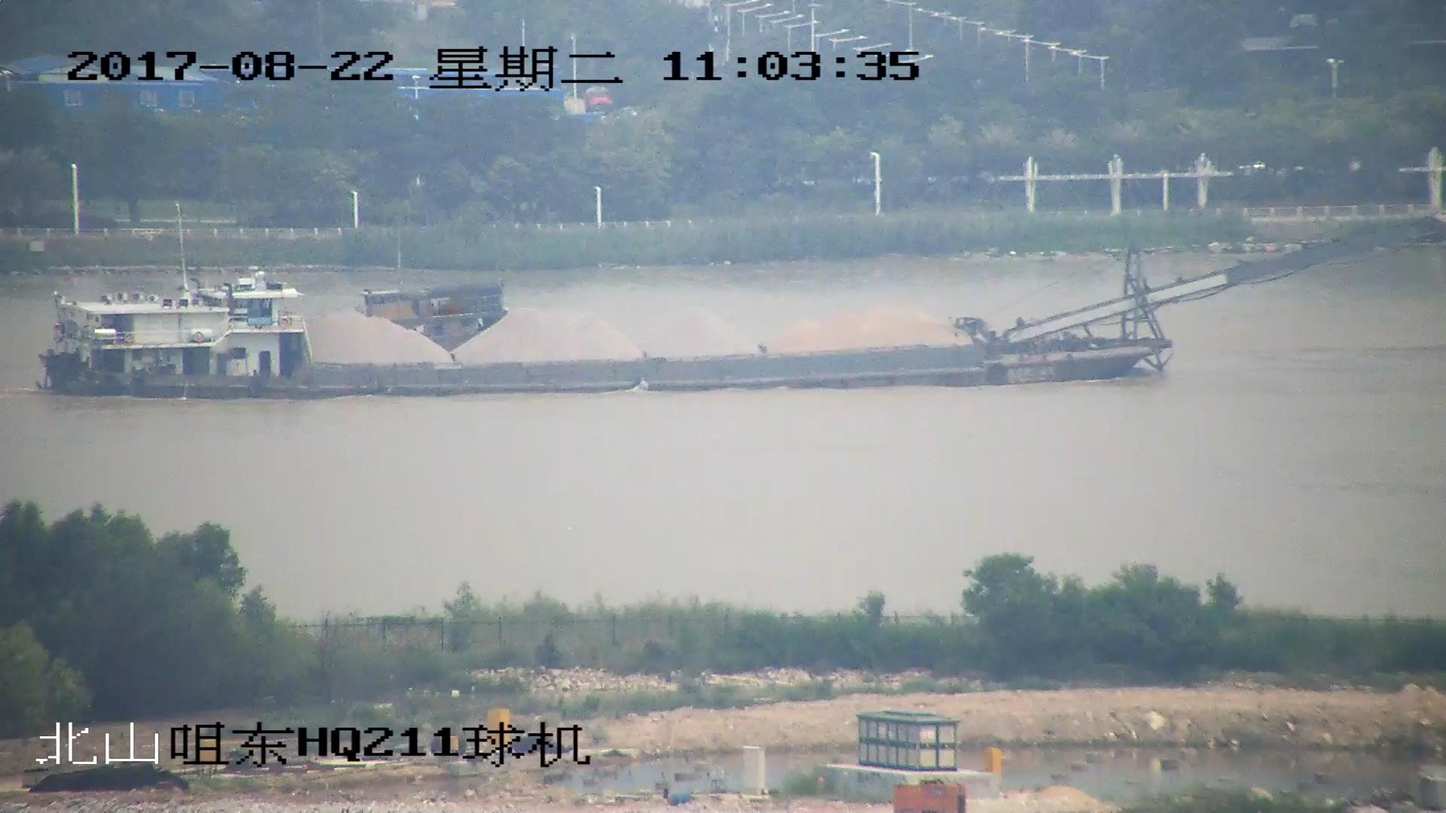fishing boat: (362, 288, 515, 340)
ore carrier: (37, 218, 1439, 399)
